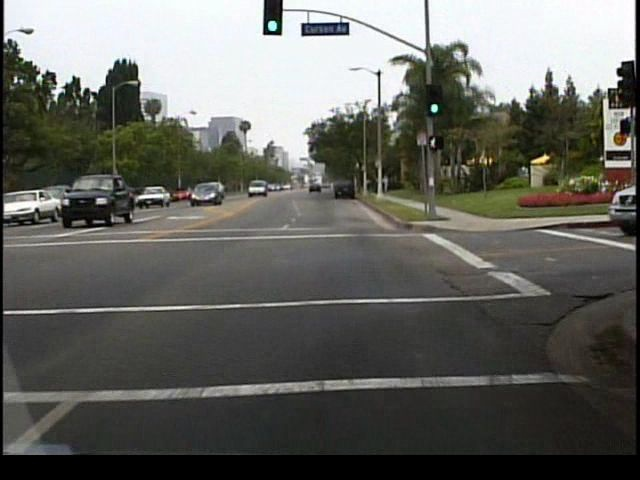person: (372, 176, 381, 199), (379, 172, 388, 193)
